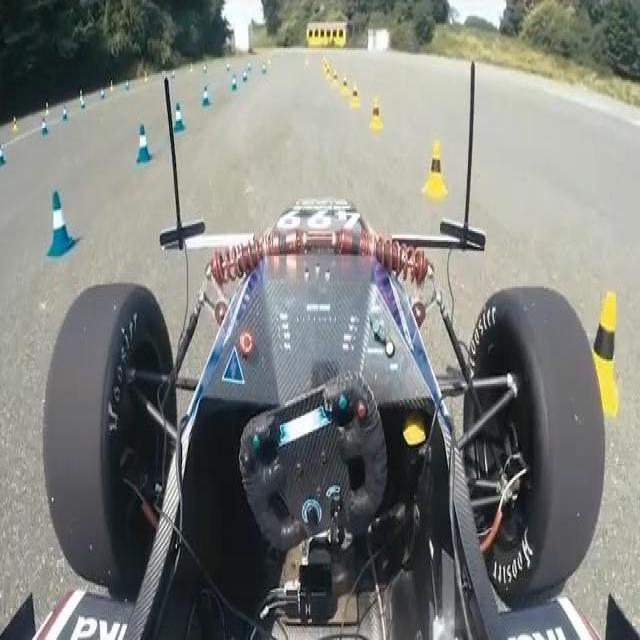blue_cone: (43, 186, 76, 258), (135, 123, 153, 165), (173, 102, 187, 136), (201, 86, 212, 110), (40, 117, 49, 139), (0, 136, 6, 166), (231, 73, 239, 92)
yellow_cone: (582, 286, 621, 417), (422, 137, 448, 201), (369, 94, 384, 130), (350, 82, 361, 108)
